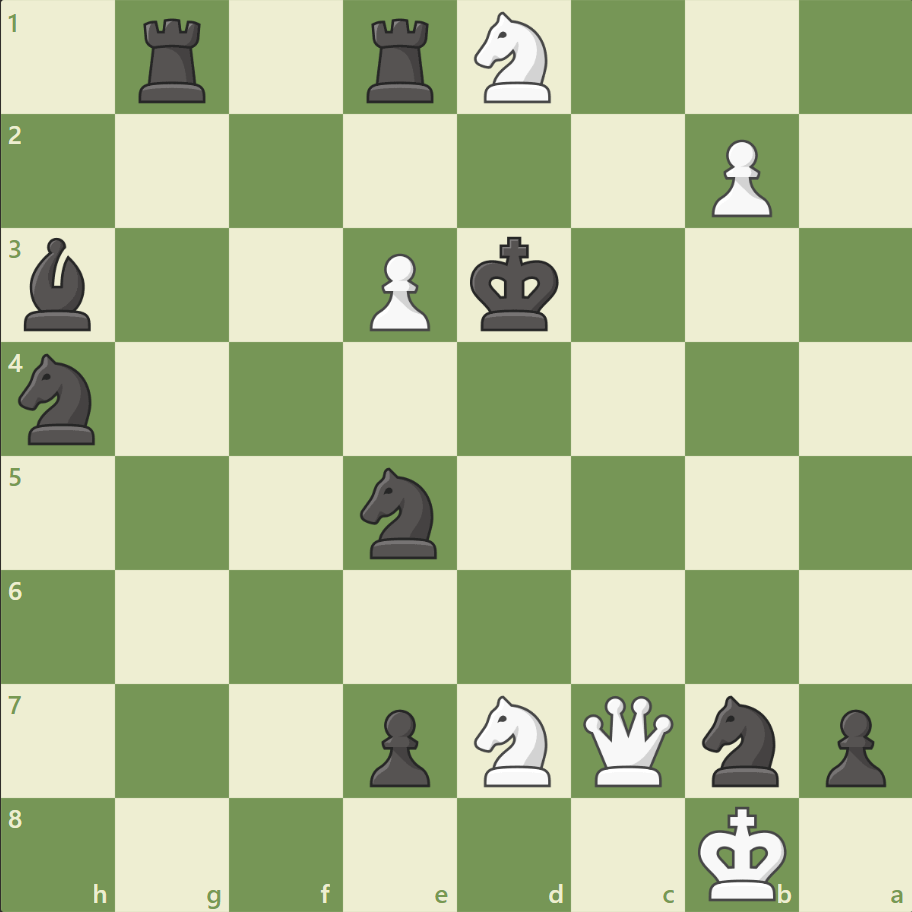K: (692, 798, 792, 906)
N: (465, 688, 562, 791), (465, 7, 562, 110)
P: (701, 132, 776, 223), (361, 246, 435, 337)
Q: (578, 690, 677, 789)
b: (17, 233, 101, 336)
k: (465, 231, 565, 339)
n: (351, 461, 449, 564), (692, 688, 789, 791), (11, 348, 108, 450)
p: (815, 700, 889, 791), (361, 700, 435, 791)
r: (360, 12, 442, 109), (133, 12, 215, 109)
